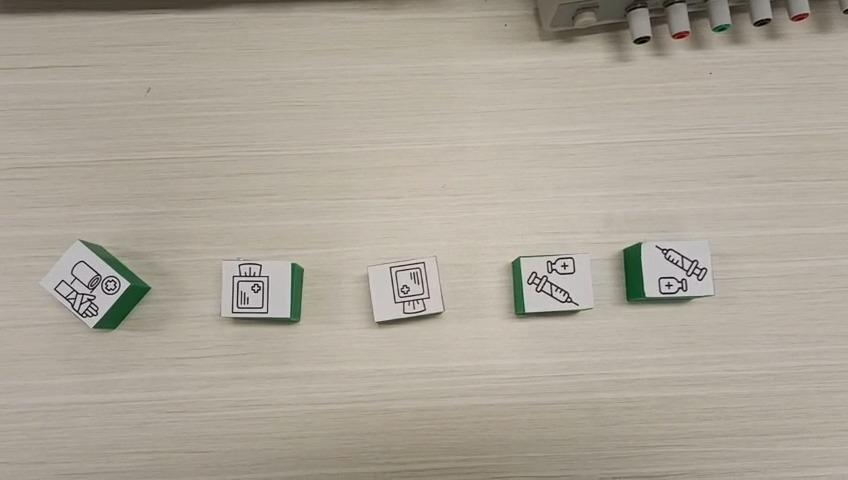Bandages: (36, 238, 150, 330)
Gauze: (365, 254, 445, 322), (221, 260, 305, 323)
antiseptic cream: (621, 237, 716, 303), (510, 251, 594, 314)
